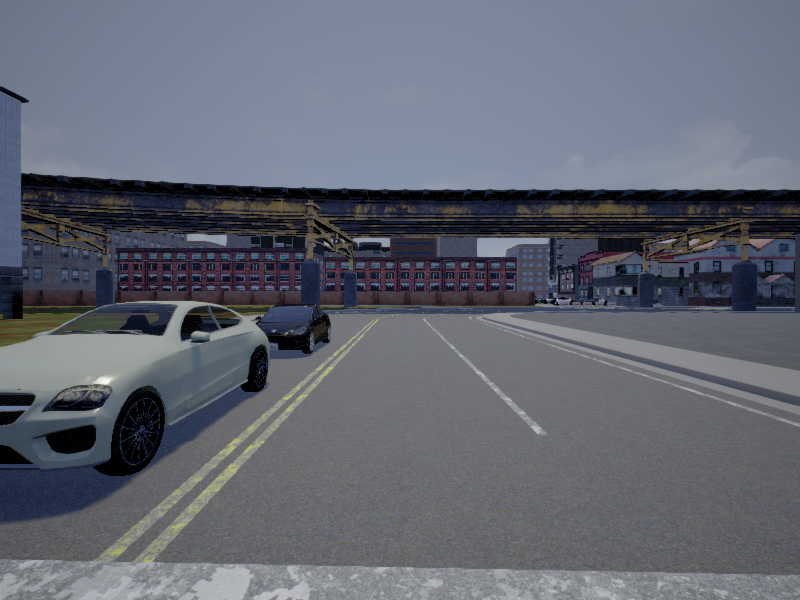Benign: (1, 300, 270, 477), (255, 304, 331, 354)
